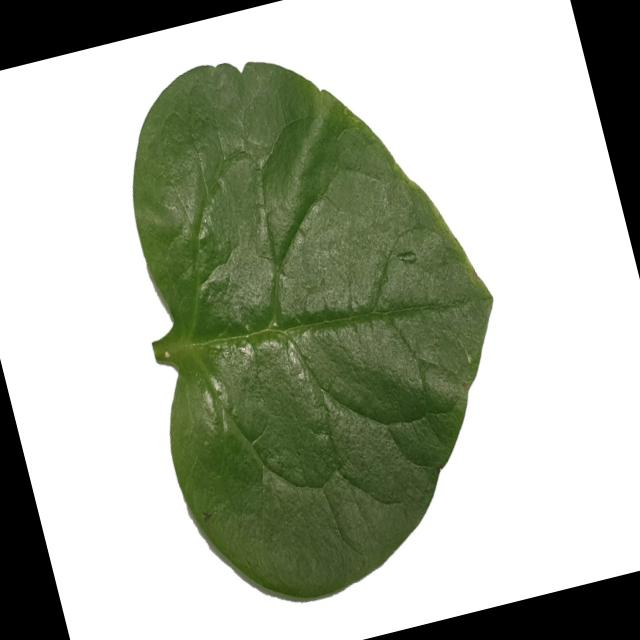Medicinal-Basale: (80, 9, 553, 624)
